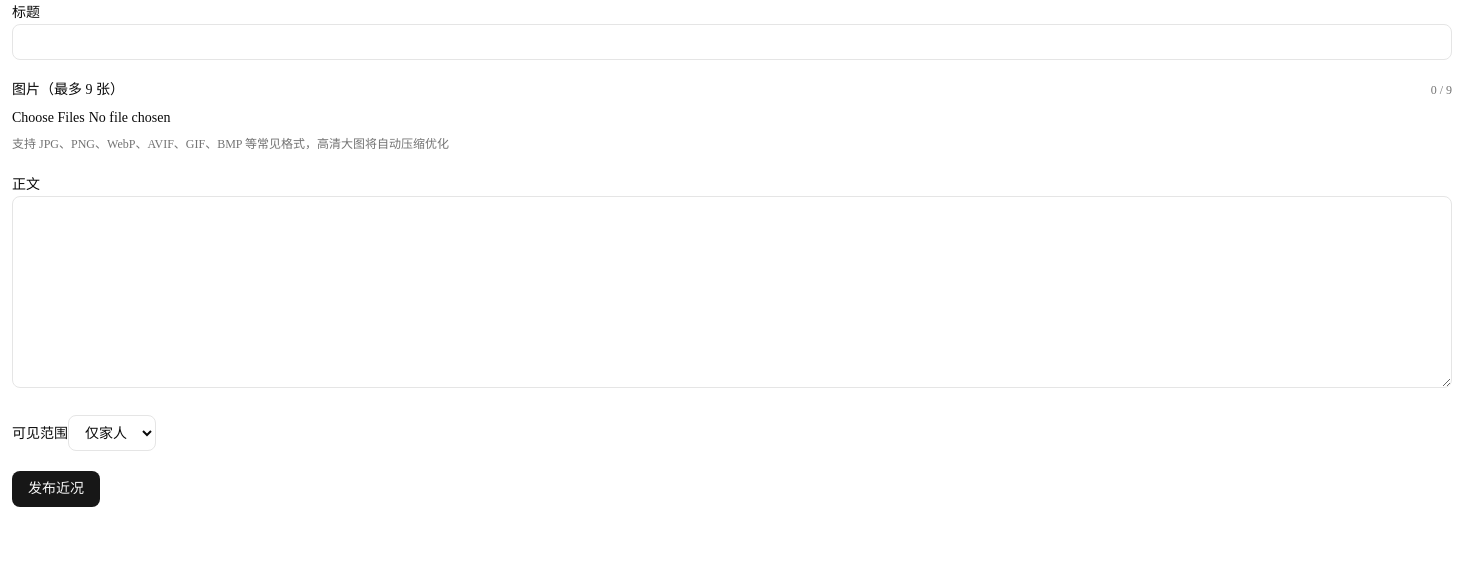
Test: PostForm › displays server error message when 400 INVALID_IMAGE_LIST is returned
In the field labelled "标题": (732,42) x1=12 y1=24 x2=1452 y2=60, type "Valid title"
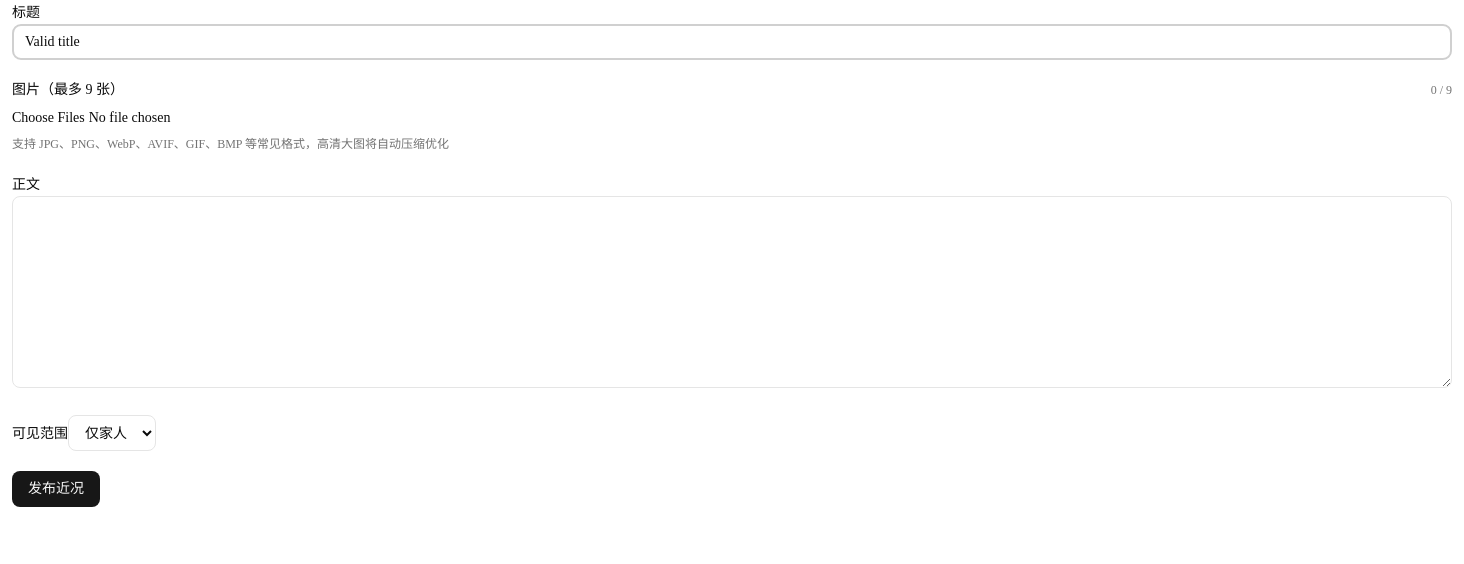
In the text box labelled "正文": (732,292) x1=12 y1=196 x2=1452 y2=388, type "Valid body"
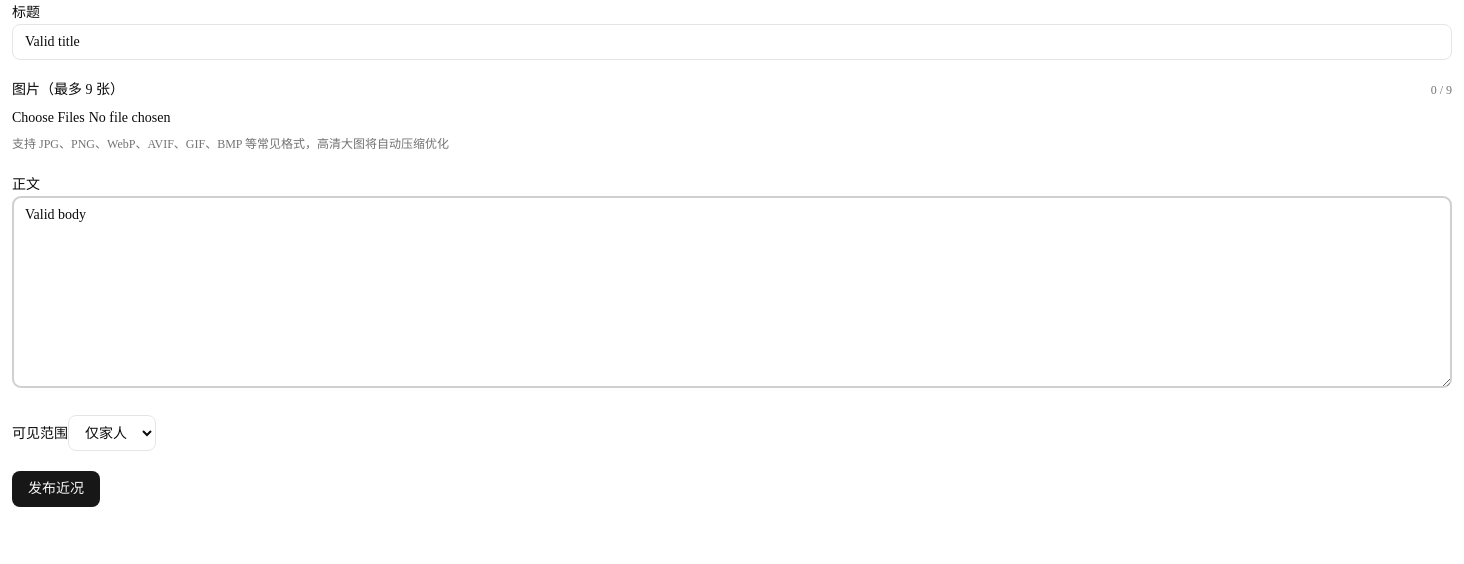
Click the button "发布近况": (56,489) x1=12 y1=471 x2=100 y2=507
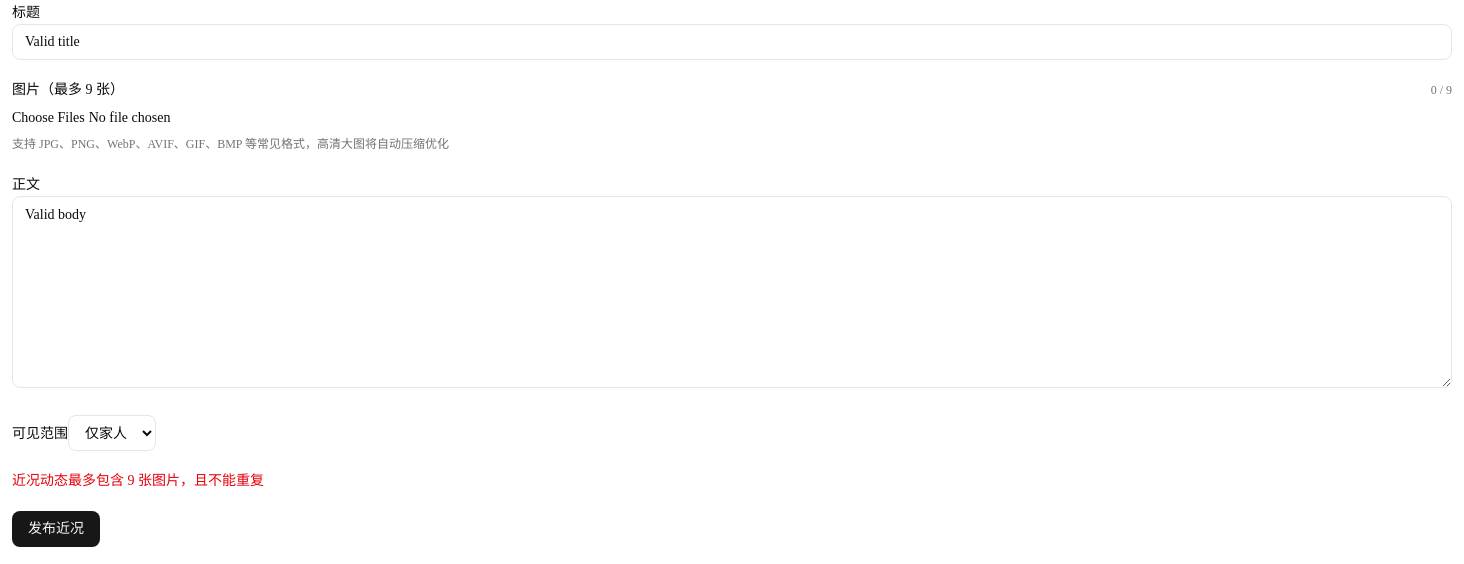
expect the message reads "近况动态最多包含 9 张图片，且不能重复": met, box x1=12 y1=473 x2=264 y2=488
